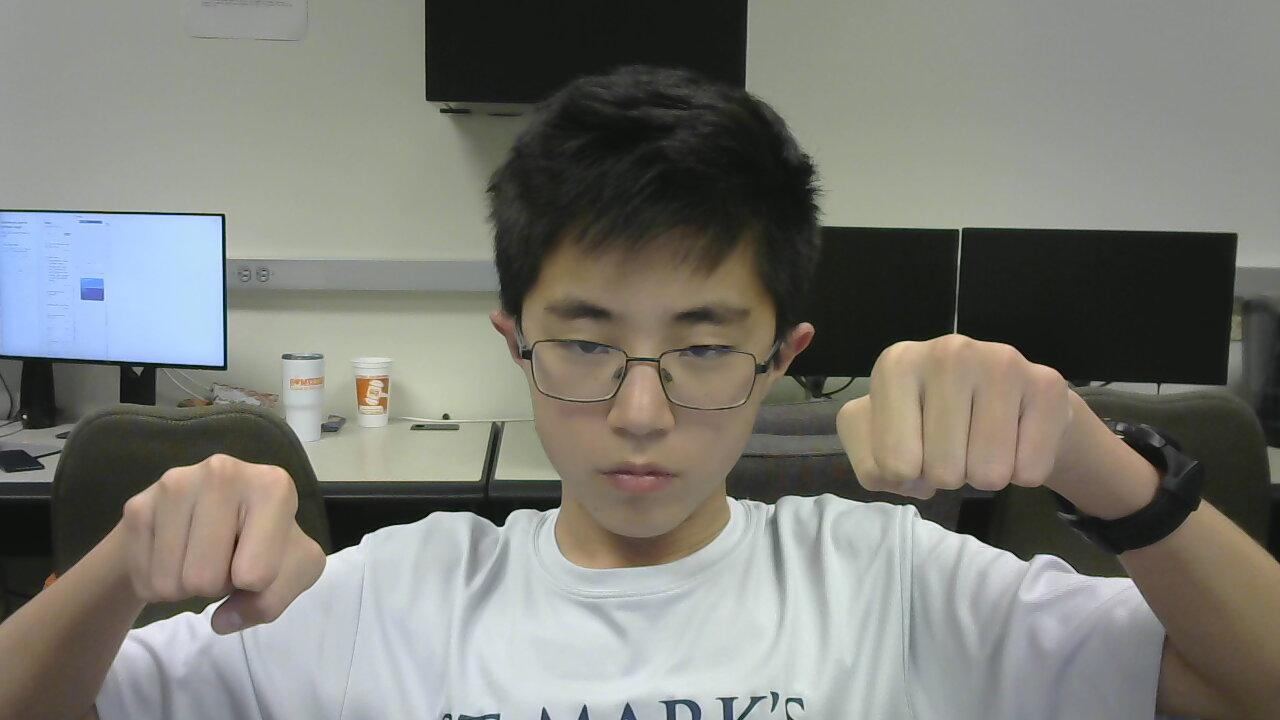fist: (83, 434, 347, 681), (836, 314, 1087, 556)
